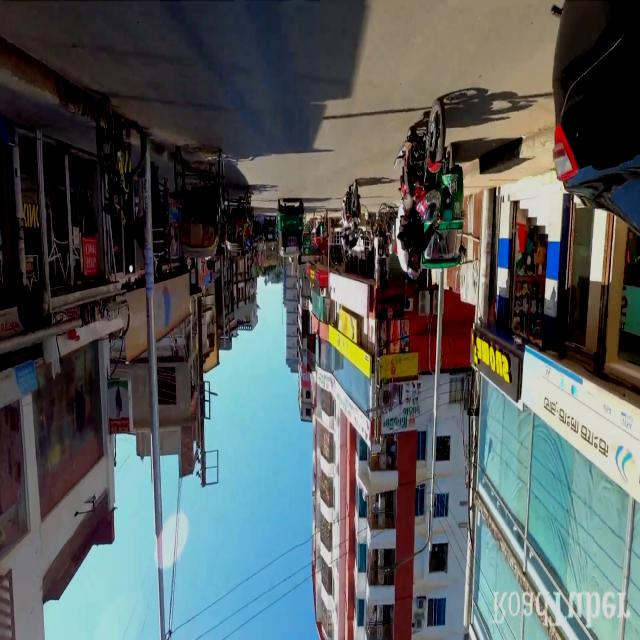black: (535, 0, 640, 245)
